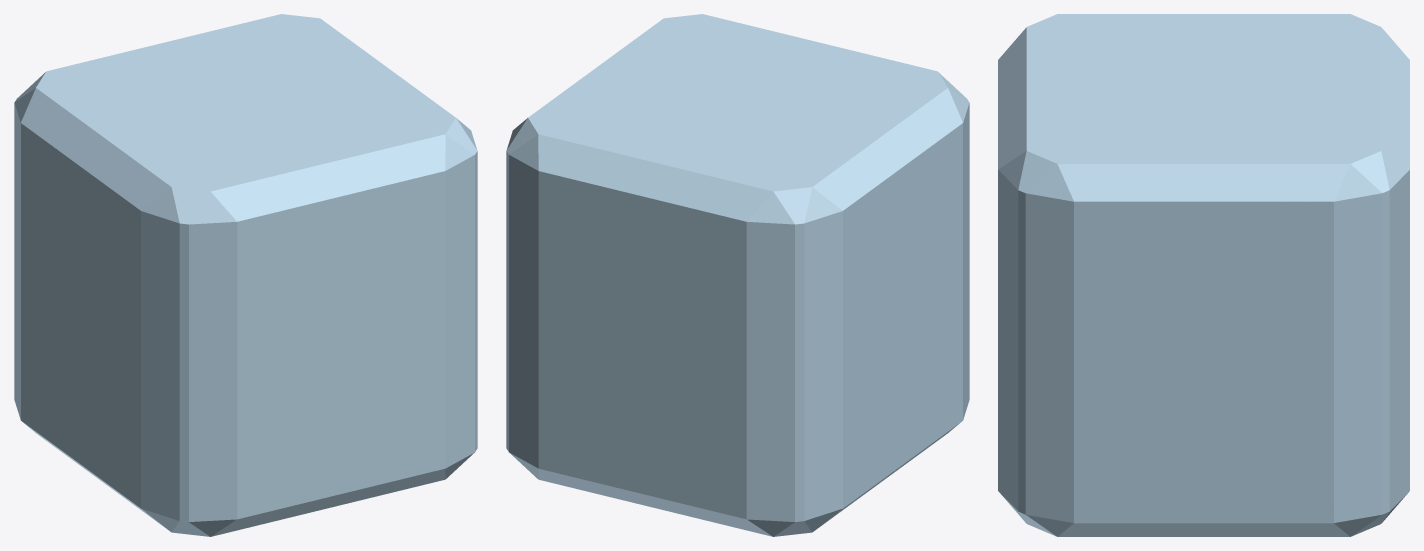
File: R4B_OctColumn.glb
3 views of the same model, side by side, from view 1: azimuth 30°, elevation 25°; view 2: azimuth 150°, elevation 25°; view 3: azimuth 270°, elevation 25° (orthographic). The views are drawn at different scales.
Parts seen in each view (by area): view 1: R4B_OctColumn; view 2: R4B_OctColumn; view 3: R4B_OctColumn.
Part boxes in pixels (x1,y1,x2,y2): R4B_OctColumn: (14, 14, 477, 536); R4B_OctColumn: (506, 14, 969, 536); R4B_OctColumn: (998, 14, 1409, 536).
Size of the model in its own units: 0.52 by 0.52 by 0.52.
